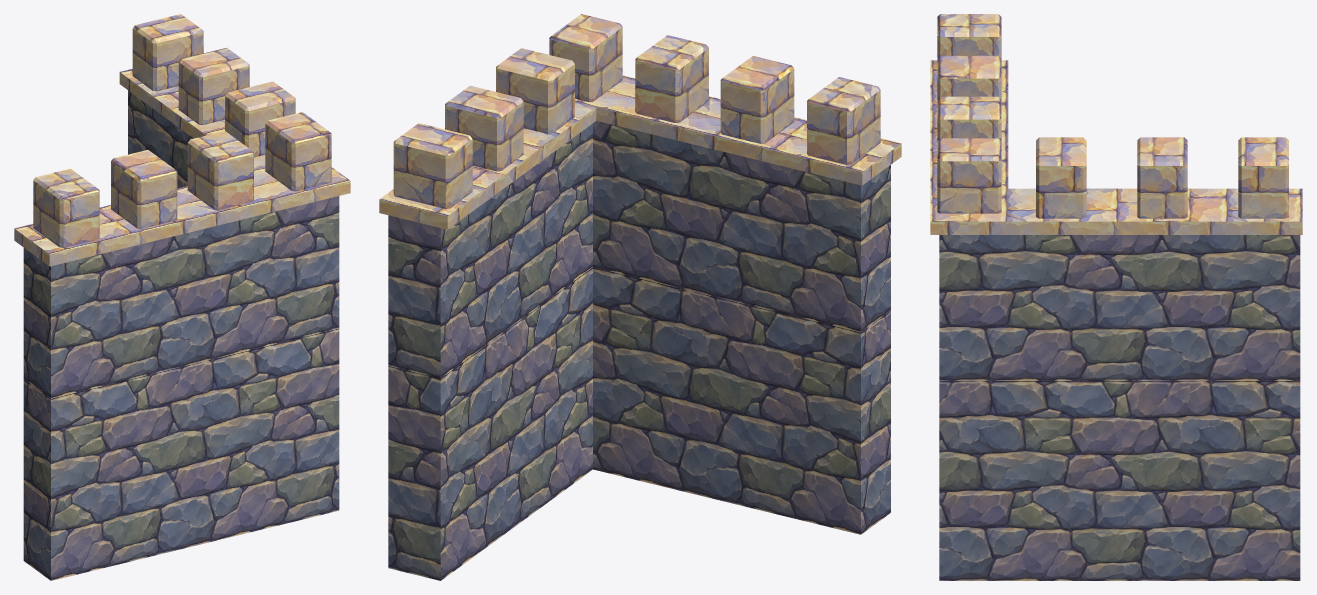
The model's file is Granite_Corner.fbx.
3 views of the same model, side by side, from view 1: azimuth 30°, elevation 25°; view 2: azimuth 150°, elevation 25°; view 3: azimuth 270°, elevation 25° (orthographic). The views are drawn at different scales.
Parts seen in each view (by area): view 1: Granite_Corner.001; view 2: Granite_Corner.001; view 3: Granite_Corner.001.
Part boxes in pixels (box(x1,y1,x2,y2)): Granite_Corner.001: box(14, 14, 350, 580); Granite_Corner.001: box(379, 14, 901, 580); Granite_Corner.001: box(930, 14, 1302, 580).
Size of the model in its own units: 415 by 502 by 405.
2 materials, 2 textured.
